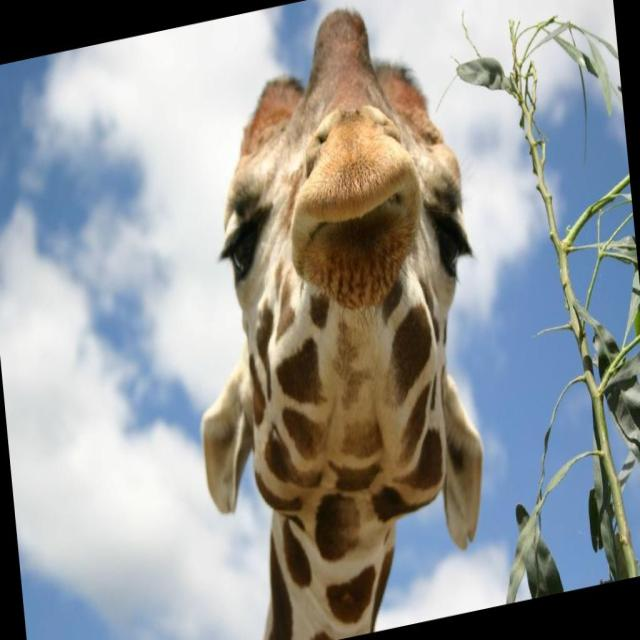Giraffe: (184, 0, 488, 640)
